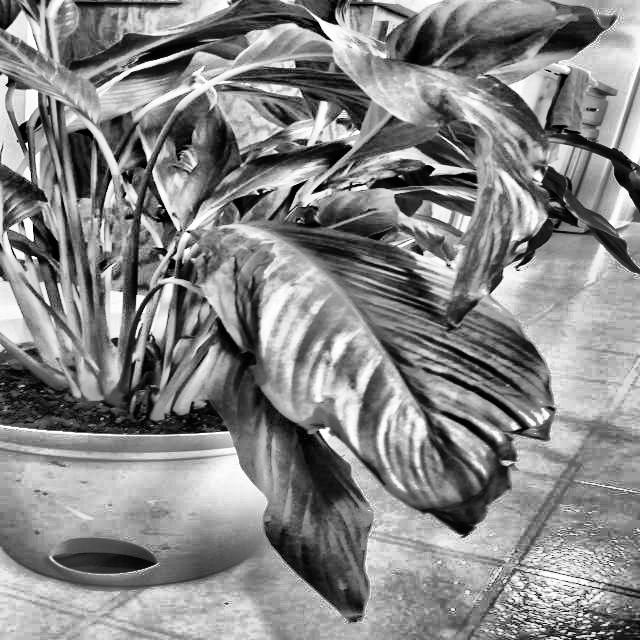plants: (21, 0, 640, 626), (176, 218, 542, 536), (318, 157, 620, 217)
